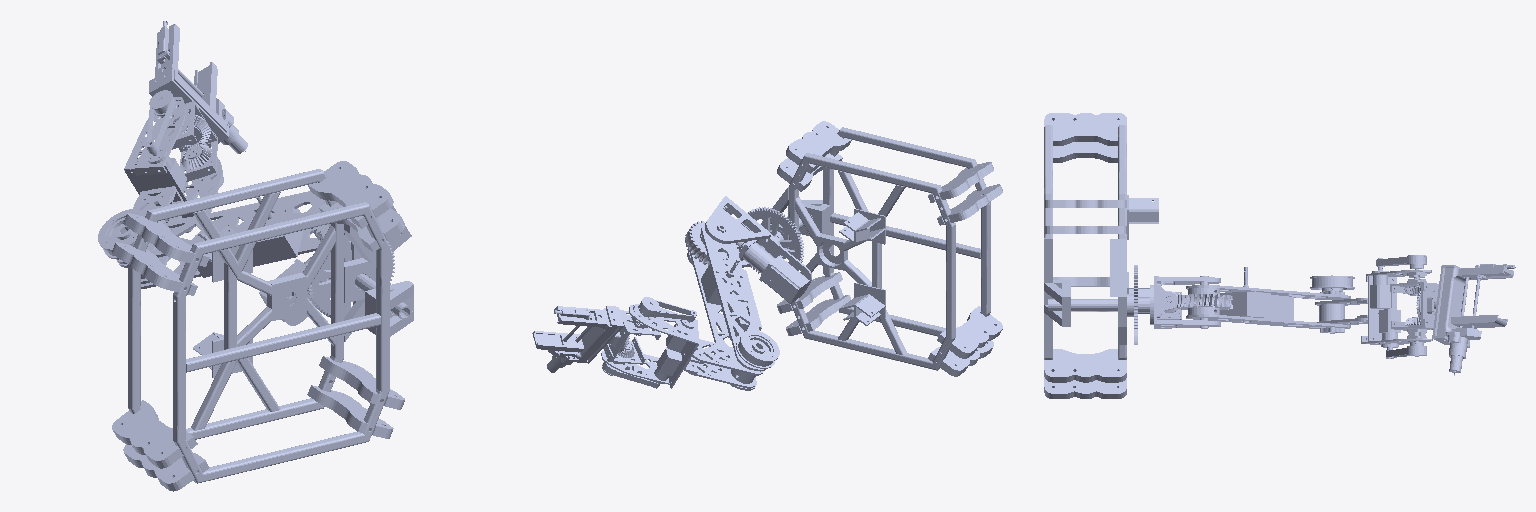
The robot description file, URDF, robot "Assem1":
<?xml version="1.0" encoding="utf-8"?>
<!-- This URDF was automatically created by SolidWorks to URDF Exporter! Originally created by Stephen Brawner (brawner@gmail.com) 
     Commit Version: 1.6.0-4-g7f85cfe  Build Version: 1.6.7995.38578
     For more information, please see http://wiki.ros.org/sw_urdf_exporter -->
<robot
  name="Assem1">
  <link
    name="base_link">
    <inertial>
      <origin
        xyz="0.22217 0.10229 0.24666"
        rpy="0 0 0" />
      <mass
        value="3.4477" />
      <inertia
        ixx="0.013724"
        ixy="-0.0002658"
        ixz="0.00058984"
        iyy="0.010995"
        iyz="0.0017053"
        izz="0.012008" />
    </inertial>
    <visual>
      <origin
        xyz="0 0 0"
        rpy="0 0 0" />
      <geometry>
        <mesh
          filename="../meshes/base_link.STL" />
      </geometry>
      <material
        name="">
        <color
          rgba="0.79216 0.81961 0.93333 1" />
      </material>
    </visual>
    <collision>
      <origin
        xyz="0 0 0"
        rpy="0 0 0" />
      <geometry>
        <mesh
          filename="../meshes/base_link.STL" />
      </geometry>
    </collision>
  </link>
  <link
    name="turntable">
    <inertial>
      <origin
        xyz="-0.0050998 0.098723 -0.0027132"
        rpy="0 0 0" />
      <mass
        value="1.2414" />
      <inertia
        ixx="0.0021904"
        ixy="-3.6983E-05"
        ixz="-0.00098133"
        iyy="0.0036748"
        iyz="-2.0757E-05"
        izz="0.0033882" />
    </inertial>
    <visual>
      <origin
        xyz="0 0 0"
        rpy="0 0 0" />
      <geometry>
        <mesh
          filename="../meshes/turntable.STL" />
      </geometry>
      <material
        name="">
        <color
          rgba="0.79216 0.81961 0.93333 1" />
      </material>
    </visual>
    <collision>
      <origin
        xyz="0 0 0"
        rpy="0 0 0" />
      <geometry>
        <mesh
          filename="../meshes/turntable.STL" />
      </geometry>
    </collision>
  </link>
  <joint
    name="turntable"
    type="revolute">
    <origin
      xyz="0.45345 0.166 0.24526"
      rpy="0 0 0" />
    <parent
      link="base_link" />
    <child
      link="turntable" />
    <axis
      xyz="0 -1 0" />
    <limit
      lower="0"
      upper="0"
      effort="0"
      velocity="0" />
  </joint>
  <link
    name="1st link">
    <inertial>
      <origin
        xyz="-0.092496 0.086648 -0.051806"
        rpy="0 0 0" />
      <mass
        value="1.8407" />
      <inertia
        ixx="0.0077636"
        ixy="0.0044973"
        ixz="-0.0028212"
        iyy="0.0073412"
        iyz="0.002524"
        izz="0.011206" />
    </inertial>
    <visual>
      <origin
        xyz="0 0 0"
        rpy="0 0 0" />
      <geometry>
        <mesh
          filename="../meshes/1st link.STL" />
      </geometry>
      <material
        name="">
        <color
          rgba="0.79216 0.81961 0.93333 1" />
      </material>
    </visual>
    <collision>
      <origin
        xyz="0 0 0"
        rpy="0 0 0" />
      <geometry>
        <mesh
          filename="../meshes/1st link.STL" />
      </geometry>
    </collision>
  </link>
  <joint
    name="1st link"
    type="fixed">
    <origin
      xyz="0.074167 0.19772 0.041626"
      rpy="0 0 0" />
    <parent
      link="turntable" />
    <child
      link="1st link" />
    <axis
      xyz="0 0 -1" />
  </joint>
  <link
    name="2nd link">
    <inertial>
      <origin
        xyz="0.081582 0.083889 0.059568"
        rpy="0 0 0" />
      <mass
        value="0.96031" />
      <inertia
        ixx="0.0010107"
        ixy="-0.00027564"
        ixz="-0.0002081"
        iyy="0.0010002"
        iyz="-0.00015374"
        izz="0.0012632" />
    </inertial>
    <visual>
      <origin
        xyz="0 0 0"
        rpy="0 0 0" />
      <geometry>
        <mesh
          filename="../meshes/2nd link.STL" />
      </geometry>
      <material
        name="">
        <color
          rgba="0.79216 0.81961 0.93333 1" />
      </material>
    </visual>
    <collision>
      <origin
        xyz="0 0 0"
        rpy="0 0 0" />
      <geometry>
        <mesh
          filename="../meshes/2nd link.STL" />
      </geometry>
    </collision>
  </link>
  <joint
    name="2nd link"
    type="fixed">
    <origin
      xyz="-0.26523 0.29511 -0.1523"
      rpy="0 0 0" />
    <parent
      link="1st link" />
    <child
      link="2nd link" />
    <axis
      xyz="0 0 -1" />
  </joint>
  <link
    name="ypr pitch">
    <inertial>
      <origin
        xyz="-0.008307 0.0070028 0.025092"
        rpy="0 0 0" />
      <mass
        value="0.21134" />
      <inertia
        ixx="0.00012543"
        ixy="-1.197E-05"
        ixz="-1.5292E-05"
        iyy="0.00010762"
        iyz="-6.7327E-06"
        izz="0.00014407" />
    </inertial>
    <visual>
      <origin
        xyz="0 0 0"
        rpy="0 0 0" />
      <geometry>
        <mesh
          filename="../meshes/ypr pitch.STL" />
      </geometry>
      <material
        name="">
        <color
          rgba="0.79216 0.81961 0.93333 1" />
      </material>
    </visual>
    <collision>
      <origin
        xyz="0 0 0"
        rpy="0 0 0" />
      <geometry>
        <mesh
          filename="../meshes/ypr pitch.STL" />
      </geometry>
    </collision>
  </link>
  <joint
    name="pitch"
    type="revolute">
    <origin
      xyz="0.22268 0.19482 0.092911"
      rpy="0 0 0" />
    <parent
      link="2nd link" />
    <child
      link="ypr pitch" />
    <axis
      xyz="-0.48941 0 0.87205" />
    <limit
      lower="0"
      upper="0"
      effort="0"
      velocity="0" />
  </joint>
  <link
    name="ypr roll">
    <inertial>
      <origin
        xyz="0.050513 0.063002 0.010477"
        rpy="0 0 0" />
      <mass
        value="0.68469" />
      <inertia
        ixx="0.00089963"
        ixy="-0.00011033"
        ixz="0.00014337"
        iyy="0.00085801"
        iyz="-0.00017518"
        izz="0.00082592" />
    </inertial>
    <visual>
      <origin
        xyz="0 0 0"
        rpy="0 0 0" />
      <geometry>
        <mesh
          filename="../meshes/ypr roll.STL" />
      </geometry>
      <material
        name="">
        <color
          rgba="0.79216 0.81961 0.93333 1" />
      </material>
    </visual>
    <collision>
      <origin
        xyz="0 0 0"
        rpy="0 0 0" />
      <geometry>
        <mesh
          filename="../meshes/ypr roll.STL" />
      </geometry>
    </collision>
  </link>
  <joint
    name="roll"
    type="revolute">
    <origin
      xyz="0.0064818 0.030526 0.033306"
      rpy="0 0 0" />
    <parent
      link="ypr pitch" />
    <child
      link="ypr roll" />
    <axis
      xyz="0.50916 0.81185 0.28575" />
    <limit
      lower="0"
      upper="0"
      effort="0"
      velocity="0" />
  </joint>
</robot>

--- What the picture shows (computed from the rendered views, not written in the file) ---
Views: 3 orthographic renders of the robot side by side, from view 1: azimuth 30°, elevation 25°; view 2: azimuth 150°, elevation 25°; view 3: azimuth 270°, elevation 25°.
Robot: Assem1 — 6 links, 5 joints (3 revolute, 2 fixed); root link base_link; default pose: all joints at 0.
Visible links, largest first — view 1: base_link, 2nd link, ypr roll, 1st link, turntable, ypr pitch; view 2: base_link, 2nd link, turntable, 1st link, ypr roll, ypr pitch; view 3: base_link, 1st link, 2nd link, ypr roll, turntable, ypr pitch.
Boxes of the visible links, x1=… form: base_link: x1=112, y1=161, x2=413, y2=491; 2nd link: x1=98, y1=90, x2=223, y2=283; ypr roll: x1=149, y1=21, x2=247, y2=153; 1st link: x1=116, y1=191, x2=322, y2=288; turntable: x1=259, y1=194, x2=411, y2=325; ypr pitch: x1=159, y1=98, x2=217, y2=181; base_link: x1=761, y1=121, x2=1002, y2=376; 2nd link: x1=601, y1=297, x2=779, y2=388; turntable: x1=687, y1=196, x2=811, y2=303; 1st link: x1=685, y1=221, x2=765, y2=390; ypr roll: x1=532, y1=306, x2=629, y2=372; ypr pitch: x1=603, y1=303, x2=660, y2=364; base_link: x1=1044, y1=113, x2=1158, y2=398; 1st link: x1=1164, y1=267, x2=1350, y2=333; 2nd link: x1=1310, y1=255, x2=1432, y2=358; ypr roll: x1=1416, y1=264, x2=1515, y2=375; turntable: x1=1048, y1=265, x2=1220, y2=344; ypr pitch: x1=1390, y1=269, x2=1438, y2=356.
Bounding box of the posed robot: 0.7374 × 1.08 × 0.5075 m (x, y, z).
Meshes: 6 distinct files referenced, 6 mesh visuals loaded (6 binary STL).
